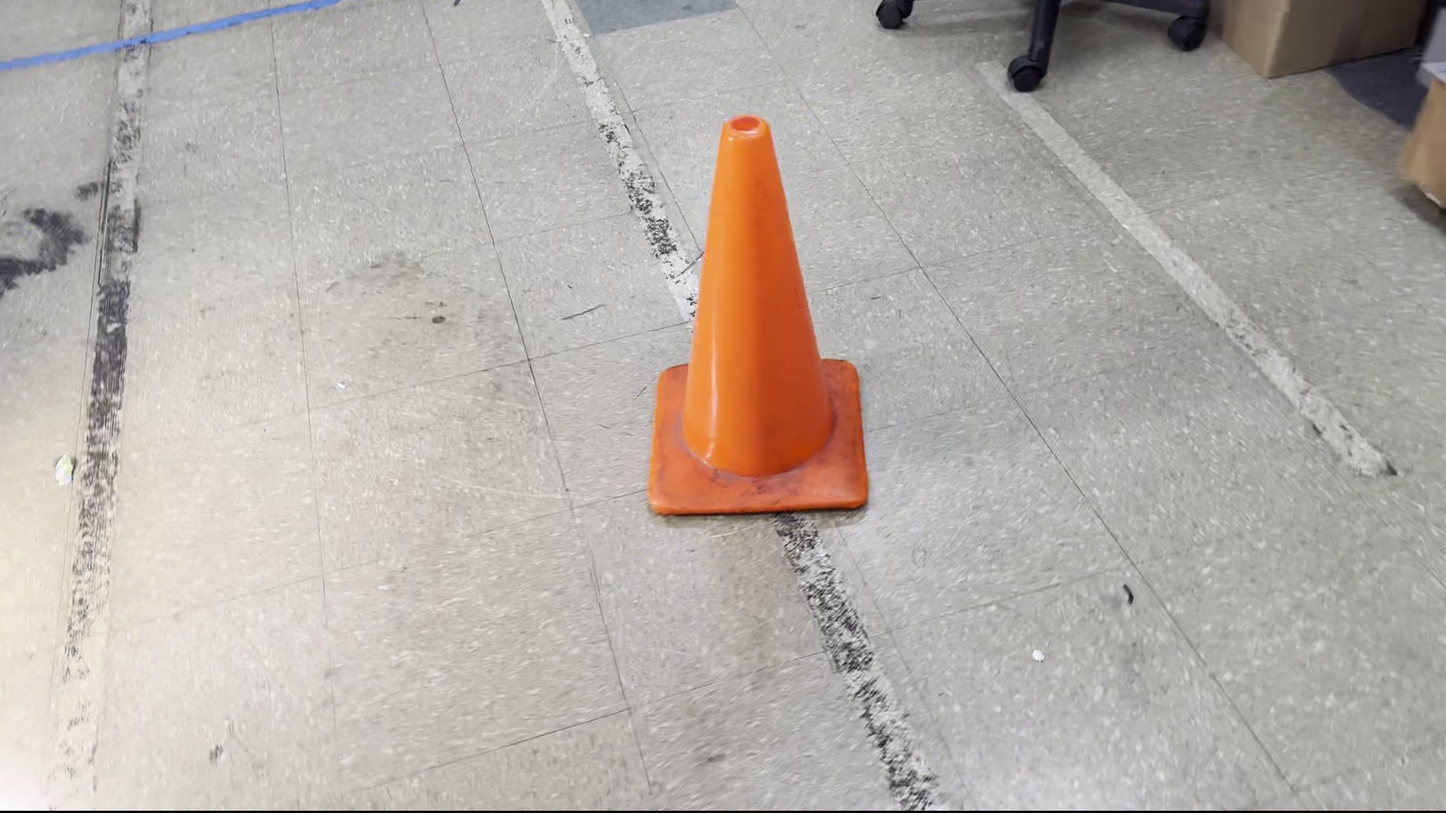traffic_cone: (646, 113, 869, 517)
